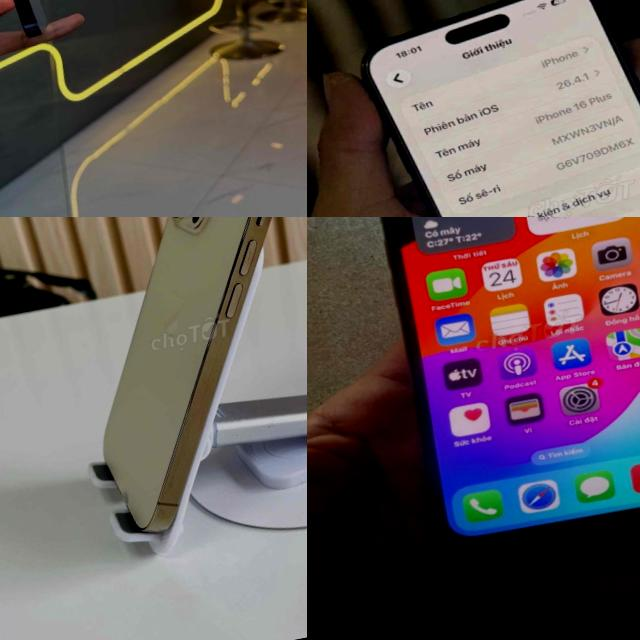gen_11: (350, 217, 640, 561)
gen_14: (103, 217, 272, 532)
gen_16: (364, 0, 640, 217)
